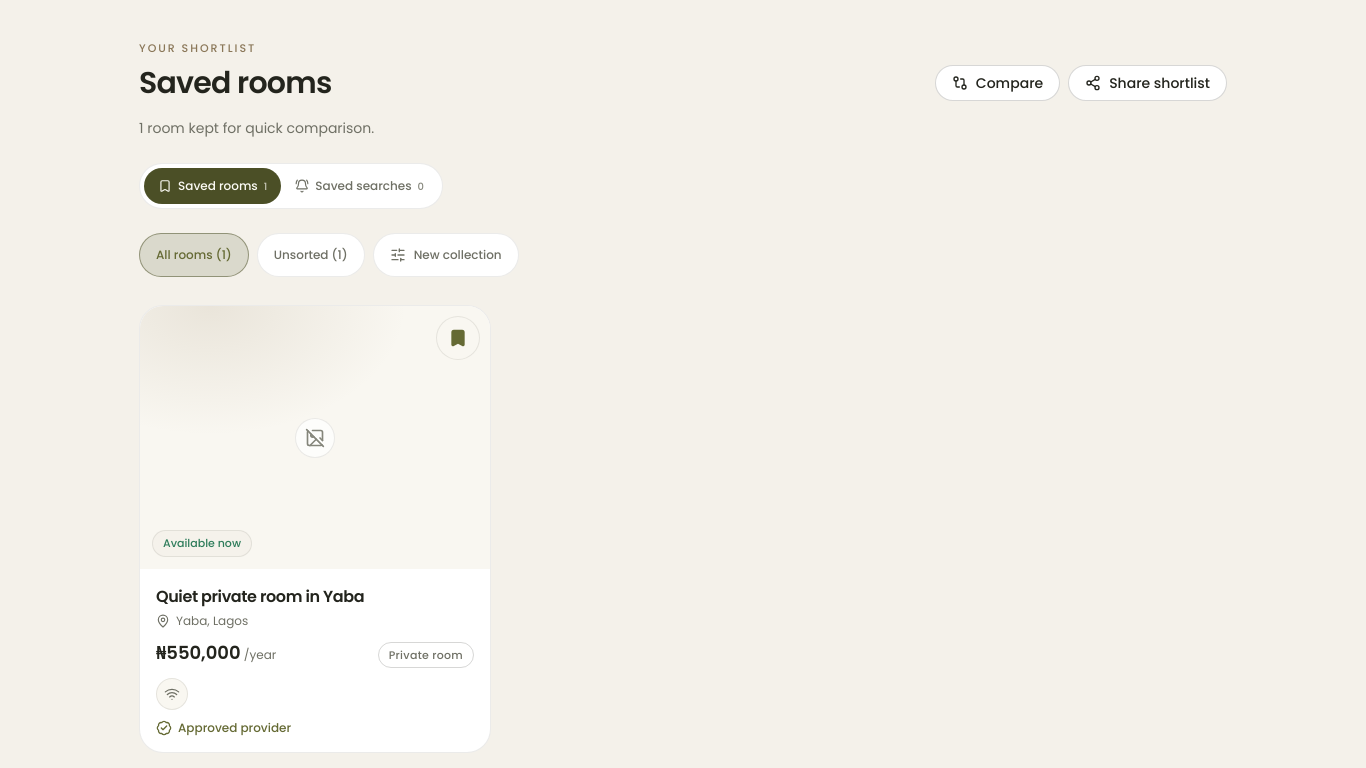
Test: Saved rooms tab › offers to share the visible shortlist with a roommate
Step 1. Click the button "Share shortlist" → (1148, 82), box [1068,64,1227,100]
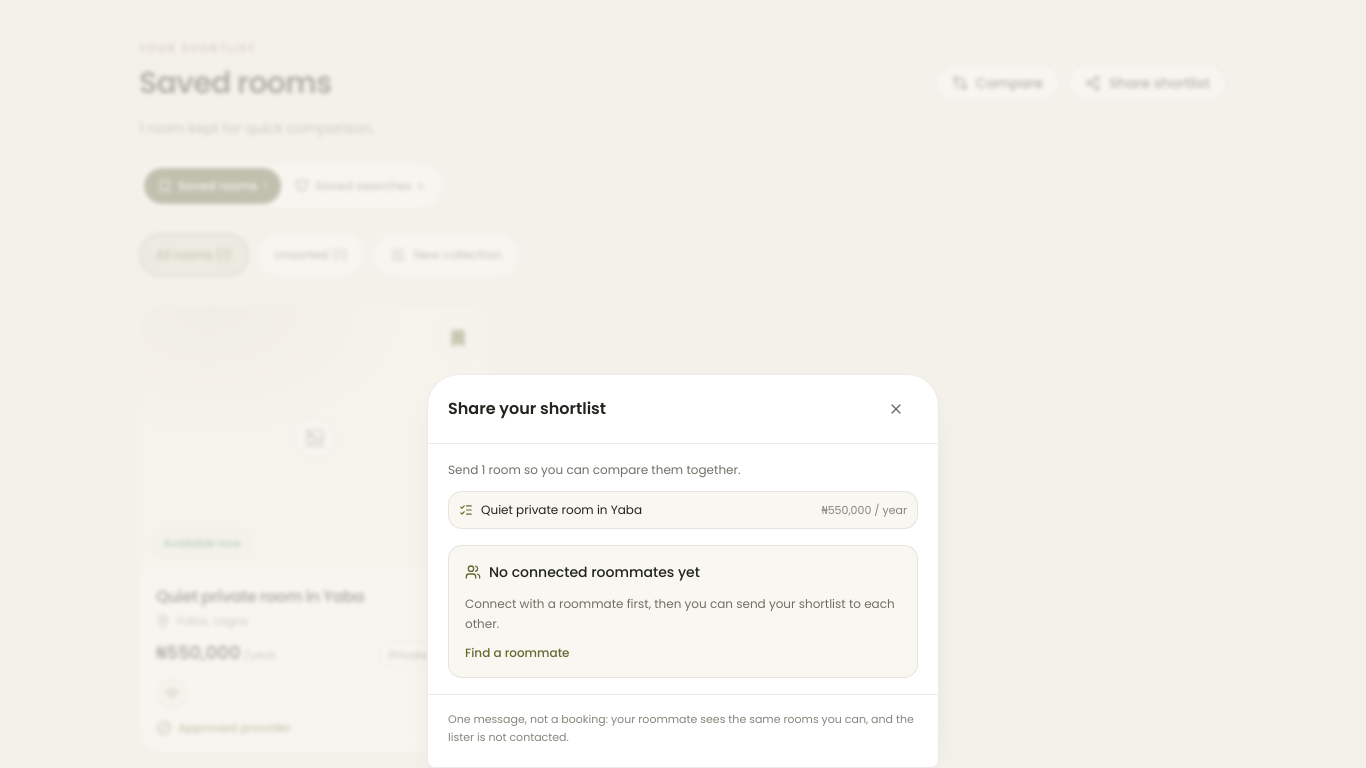
Expected: the text "Send 1 room so you can compare them together." is shown, [448,461,740,478]
